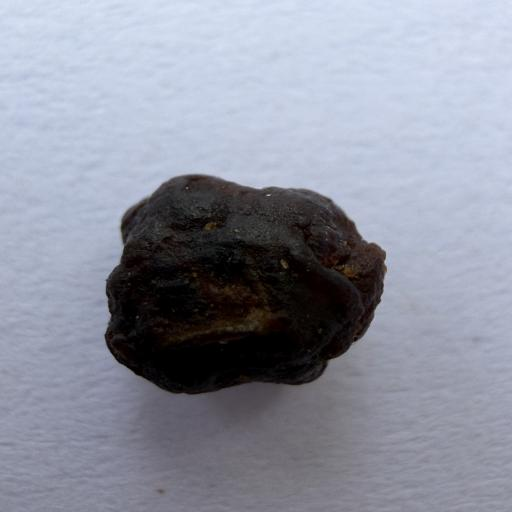Black_pepper: (76, 151, 421, 402)
